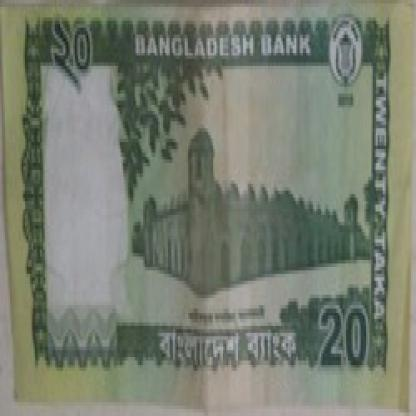Twenty: (314, 295, 370, 378), (48, 10, 97, 104)
